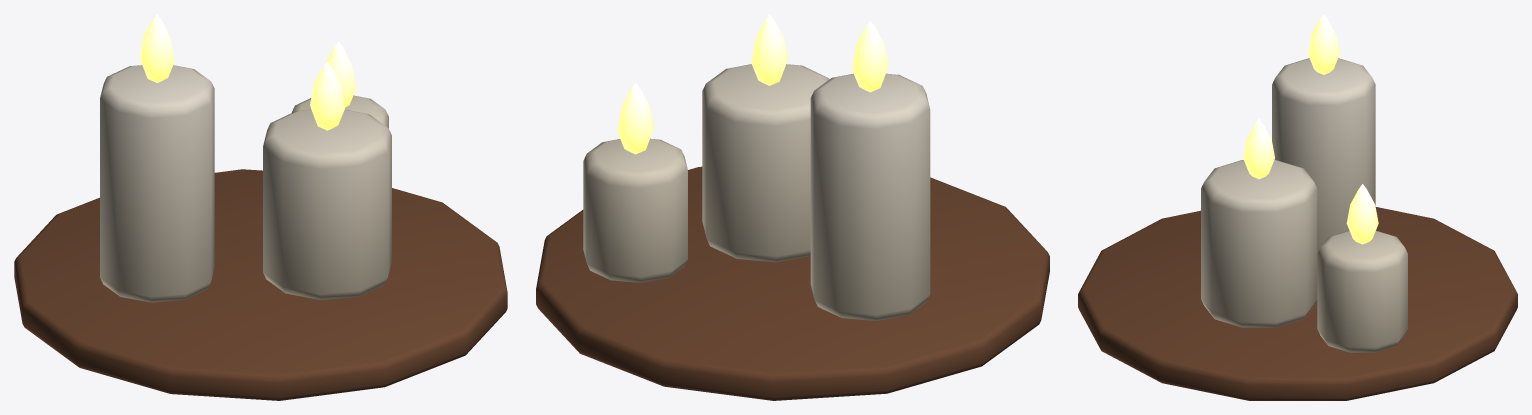
File: candles.glb
3 renders of one model, left to right at view 1: azimuth 30°, elevation 25°; view 2: azimuth 150°, elevation 25°; view 3: azimuth 270°, elevation 25°, orthographic. The views are drawn at different scales.
Visible parts, largest first — view 1: candles, flame_1, flame_2, flame_3; view 2: candles, flame_3, flame_1, flame_2; view 3: candles, flame_1, flame_3, flame_2.
Boxes of the visible parts, box(x1,y1,x2,y2) form: candles: box(14, 65, 507, 400); flame_1: box(140, 14, 174, 82); flame_2: box(310, 62, 344, 130); flame_3: box(325, 41, 356, 107); candles: box(536, 64, 1049, 400); flame_3: box(617, 82, 653, 154); flame_1: box(852, 20, 888, 92); flame_2: box(751, 14, 787, 85); candles: box(1078, 58, 1517, 400); flame_1: box(1308, 14, 1339, 74); flame_3: box(1346, 184, 1378, 244); flame_2: box(1243, 118, 1274, 179).
Bounding box in the file's own units: 0.3315 × 0.222 × 0.34.
